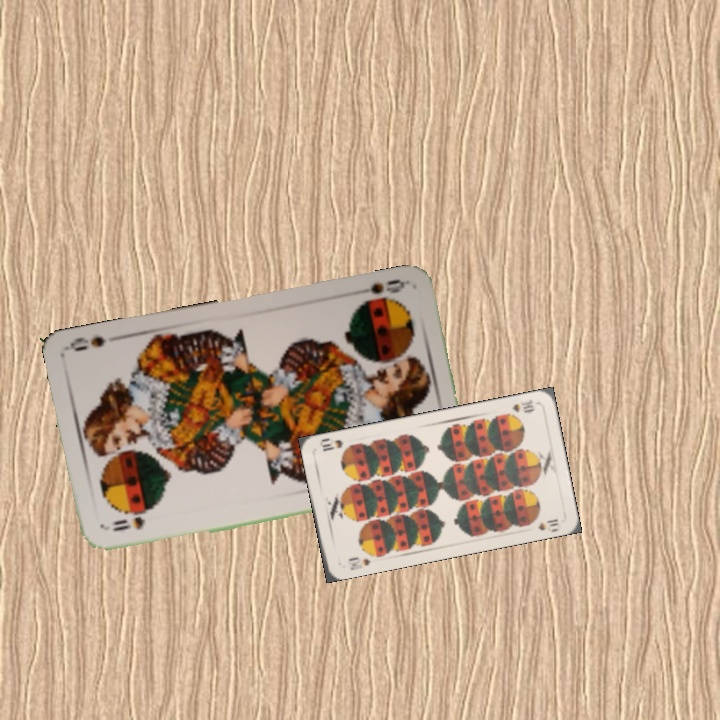S10: (344, 553, 374, 573), (508, 395, 536, 415)
SO: (352, 275, 408, 297), (108, 512, 148, 534)
